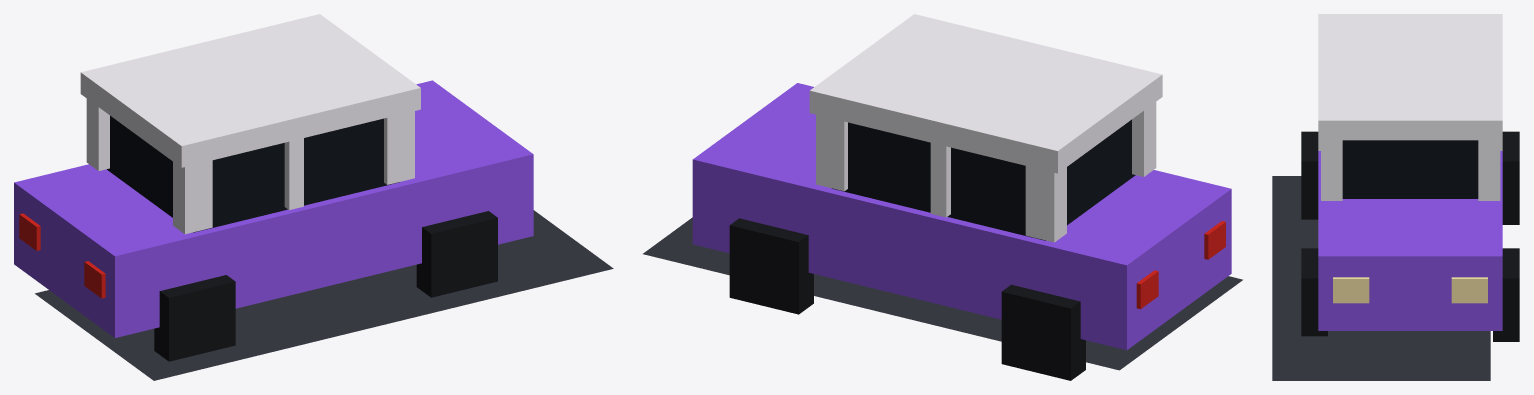
File: car_purple.obj
The picture shows the model from 3 angles, left to right: view 1: azimuth 30°, elevation 25°; view 2: azimuth 150°, elevation 25°; view 3: azimuth 270°, elevation 25°; orthographic projection. The views are drawn at different scales.
Size of the model in its own units: 2.08 by 0.87 by 1.02.
